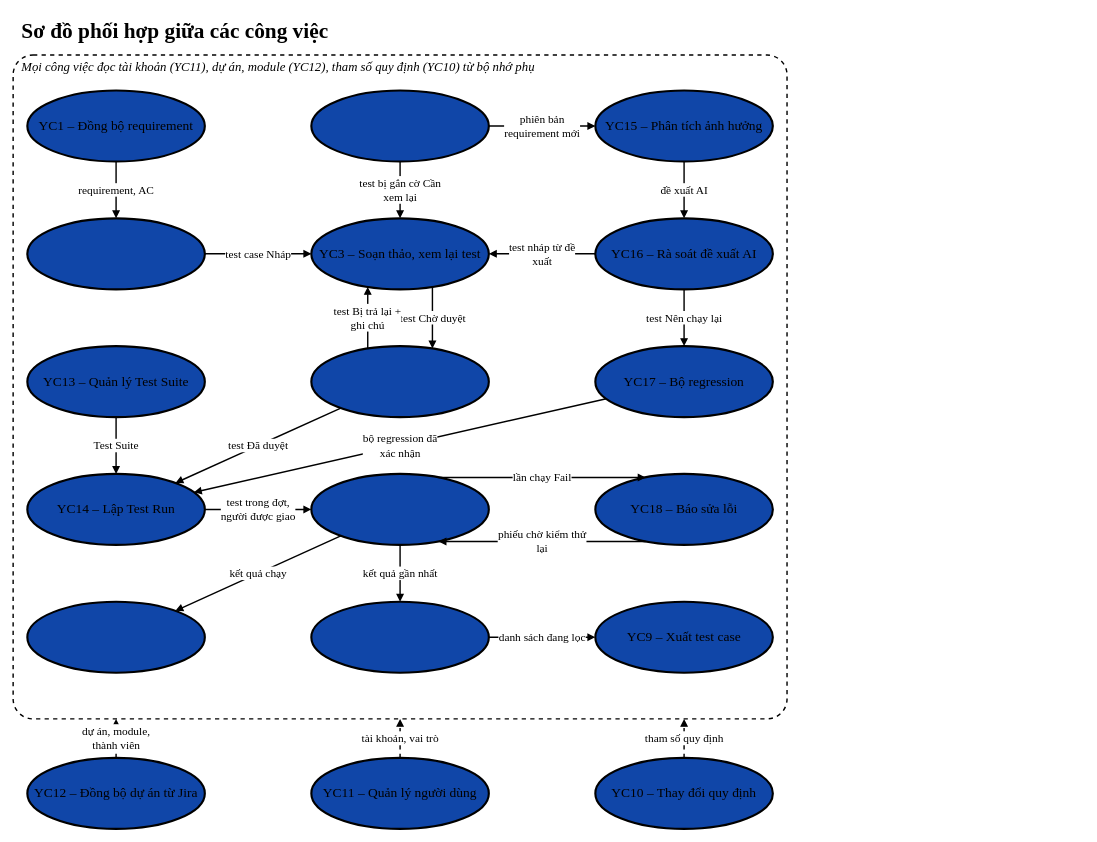
Image size: 1097x842. Some labels were removed from this diagram. Here are the shapes that lost their labels. From the top down, the centre of each, then its label:
At (x=400, y=125): "YC8 – Nhận thay đổi requirement".
At (x=116, y=253): "YC2 – Sinh test case bằng AI".
At (x=400, y=381): "YC4 – Duyệt test case".
At (x=400, y=509): "YC5 – Ghi nhận kết quả".
At (x=116, y=636): "YC6 – Lập báo cáo".
At (x=400, y=636): "YC7 – Tra cứu test case".
